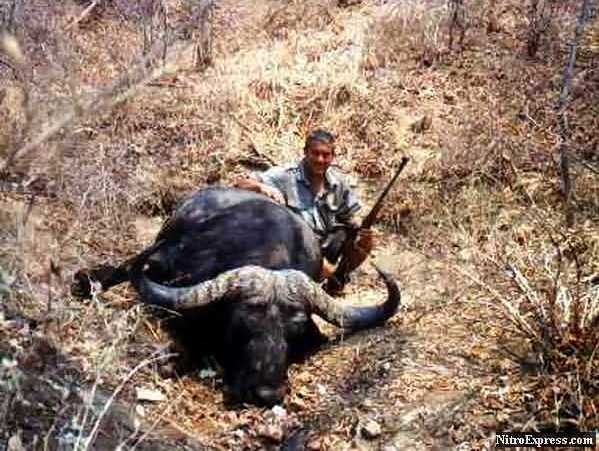buffalo: (74, 186, 402, 406)
